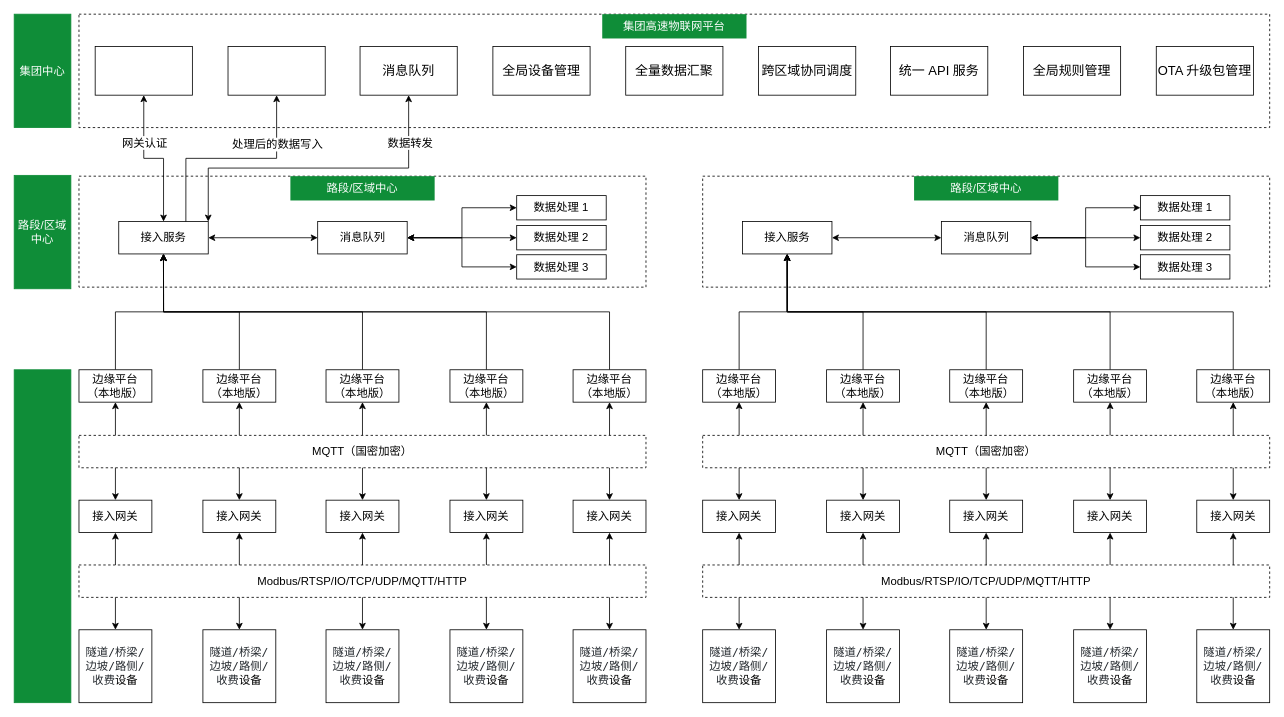
This 1284x717 diagram has some shape labels left out. Each missing label, with the box of its shape:
关系型数据库: (94, 46, 192, 95)
时序数据库: (227, 46, 325, 95)
本地端: (13, 369, 71, 703)
